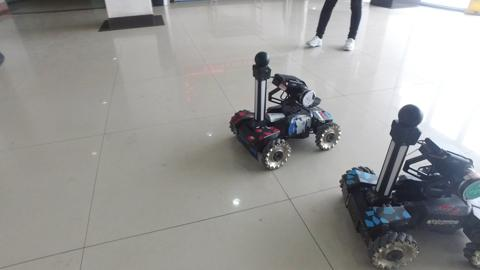chariot: (336, 101, 480, 270), (225, 51, 348, 172)
